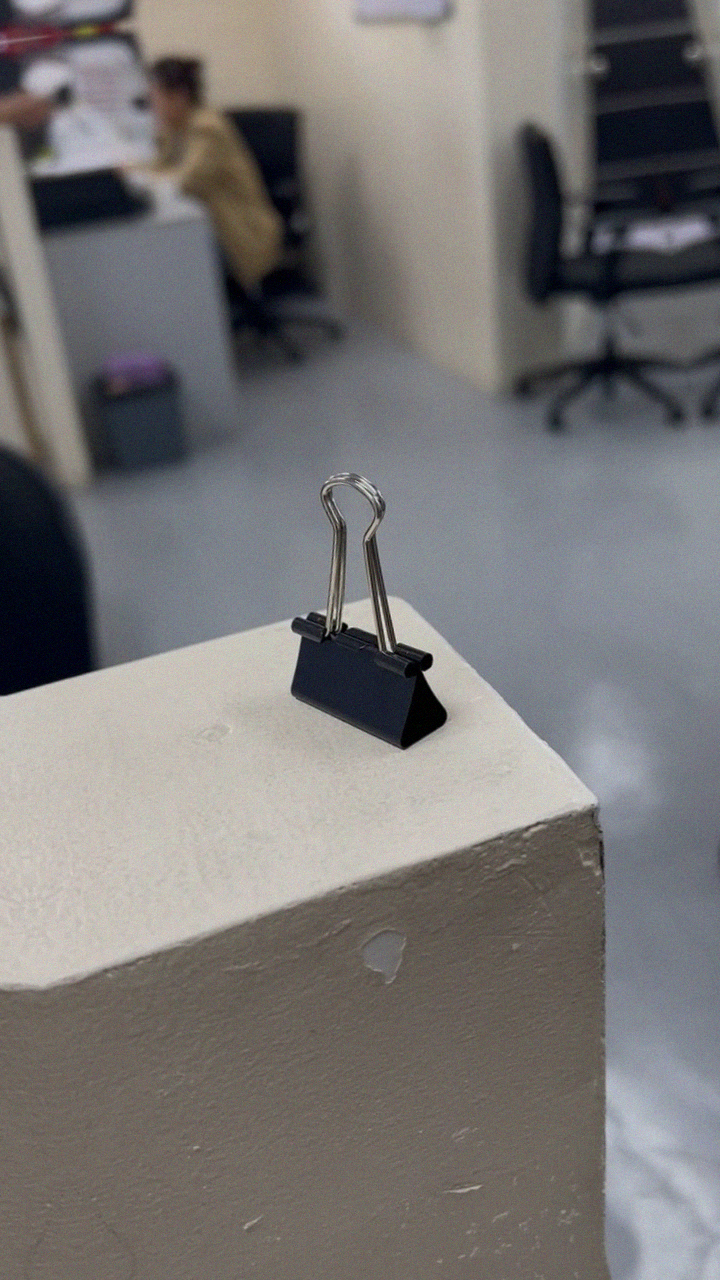kep_giay: (251, 460, 459, 769)
